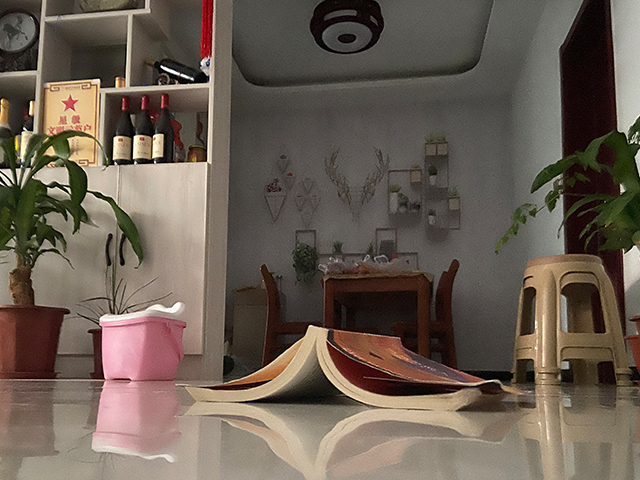book: (171, 323, 536, 414)
cabinet: (1, 158, 223, 384)
stool: (509, 250, 640, 385), (391, 258, 461, 371), (257, 262, 324, 368)
table: (319, 270, 435, 362)
